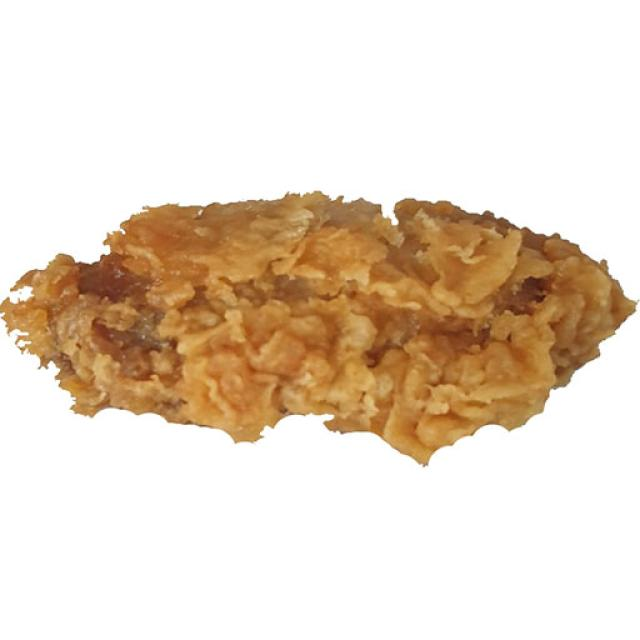Frango: (0, 177, 640, 486)
